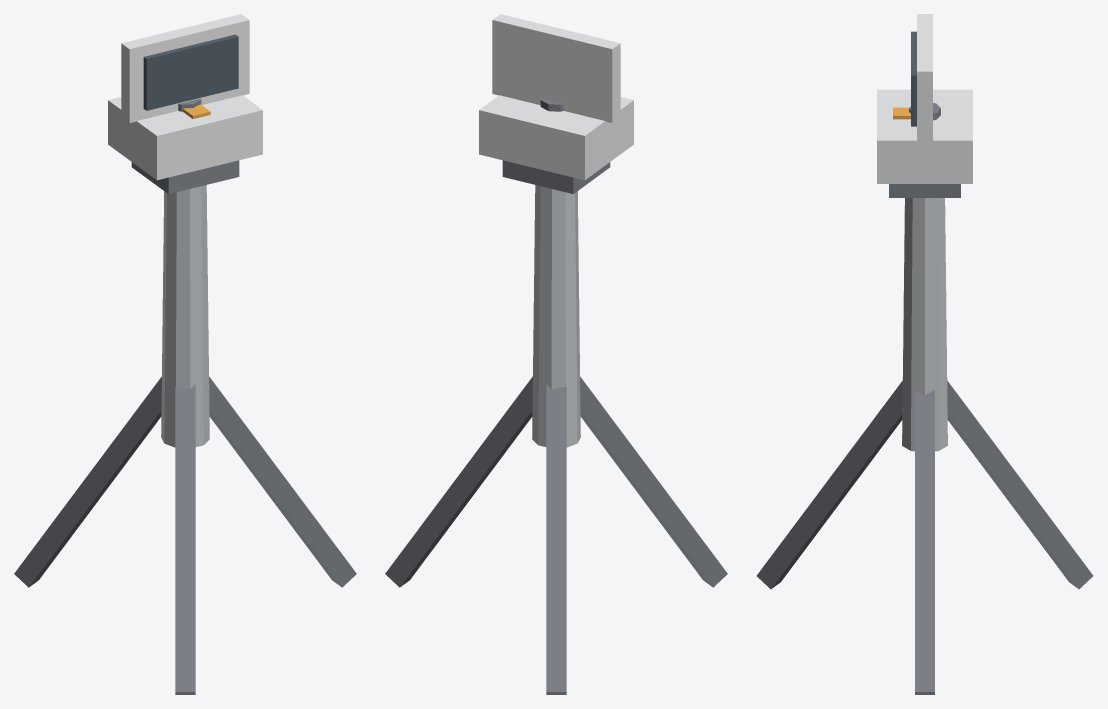
Rendered from antenna-tracker.glb.
The picture shows the model from 3 angles, left to right: view 1: azimuth 30°, elevation 25°; view 2: azimuth 150°, elevation 25°; view 3: azimuth 270°, elevation 25°; orthographic projection.
Visible parts, largest first — view 1: antenna-tracker, sensor-head/glass, sensor-head/shell; view 2: antenna-tracker, sensor-head/shell; view 3: antenna-tracker, sensor-head/shell, sensor-head/glass.
Boxes of the visible parts, left/top/right/bottom form: antenna-tracker: left=14, top=95, right=356, bottom=694; sensor-head/glass: left=143, top=34, right=238, bottom=110; sensor-head/shell: left=121, top=14, right=249, bottom=122; antenna-tracker: left=385, top=95, right=727, bottom=694; sensor-head/shell: left=492, top=14, right=620, bottom=122; antenna-tracker: left=756, top=89, right=1093, bottom=694; sensor-head/shell: left=917, top=14, right=932, bottom=144; sensor-head/glass: left=911, top=31, right=916, bottom=126.
Bounding box in the file's own units: 0.728 × 1.59 × 0.8405.
